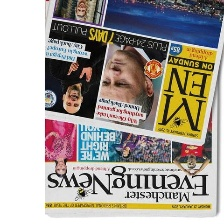news_paper: (39, 52, 219, 221), (26, 0, 223, 136)
